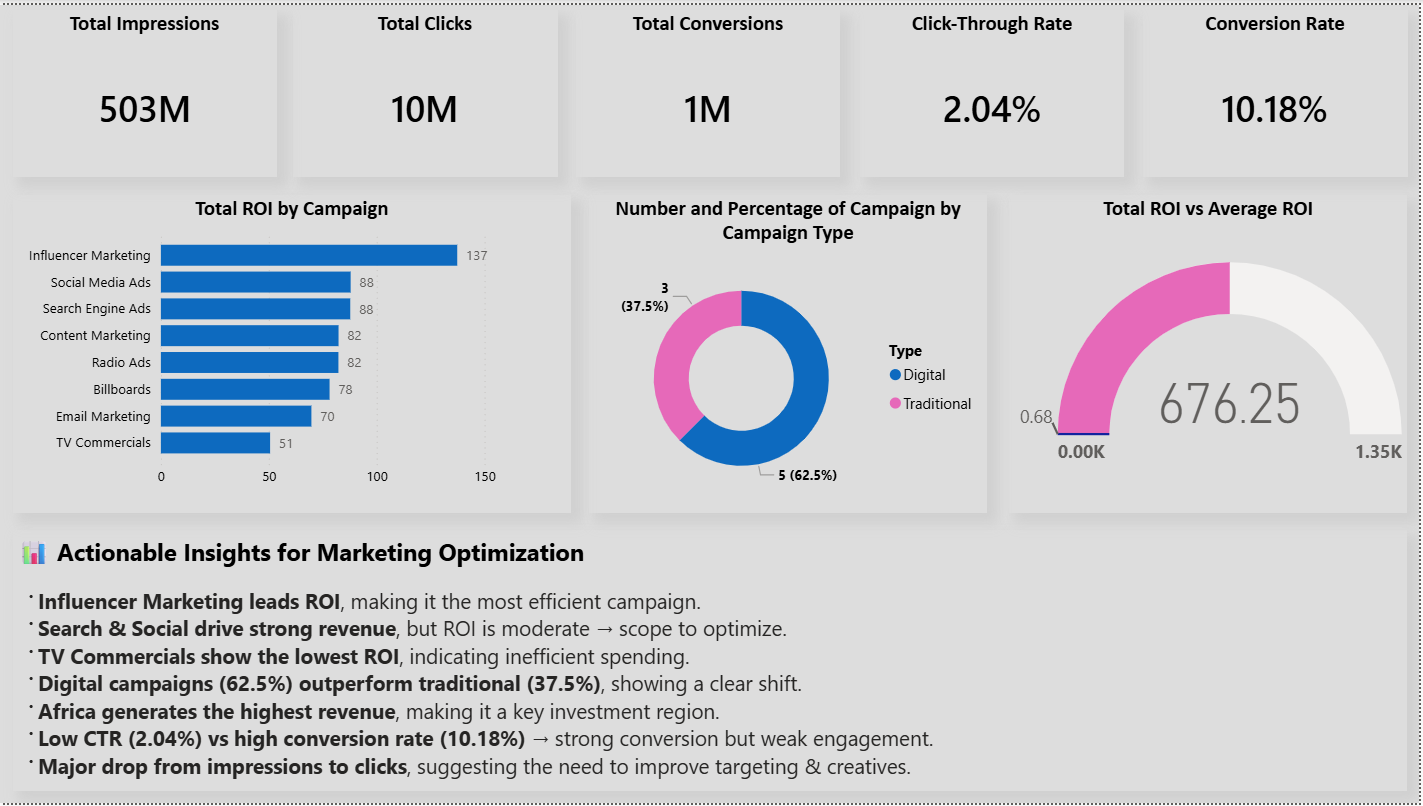

The dashboard page shown, as its layout file describes it:
{"tool":"powerbi","page":{"name":"Page 2","canvas":[1280,720],"ordinal":1},"visuals":[{"type":"clusteredBarChart","title":"Total ROI by Campaign","fields":{"Category":["marketing campaign details.CampaignName"],"Y":["Sum(marketing campaign performance.ROI)"]},"box":[11.2,171.7,503.8,286.1],"z":0},{"type":"donutChart","title":"Number and Percentage of Campaign by Campaign Type","fields":{"Y":["CountNonNull(marketing campaign details.CampaignName)"],"Category":["marketing campaign details.Type"]},"box":[531.2,171.7,359.5,286.1],"z":1000},{"type":"gauge","title":"Total ROI vs Average ROI","fields":{"Y":["marketing campaign performance.Total ROI"],"TargetValue":["Avg(marketing campaign performance.ROI)"]},"box":[909.3,171.7,359.5,286.1],"z":2000},{"type":"textbox","box":[11.2,473.9,1257.6,235.1],"z":5000},{"type":"cardVisual","title":"Total Impressions","fields":{"Data":["marketing campaign performance.Total impressions"]},"box":[11.2,5,238,150.5],"z":6000},{"type":"cardVisual","title":"Click-Through Rate","fields":{"Data":["marketing campaign performance.CTR"]},"box":[775,5,238,150.5],"z":7000},{"type":"cardVisual","title":"Total Clicks","fields":{"Data":["marketing campaign performance.total clicks"]},"box":[263.7,5,238.8,150.5],"z":8000},{"type":"cardVisual","title":"Total Conversions","fields":{"Data":["marketing campaign performance.total Conversions"]},"box":[520,5,237.6,150.5],"z":9000},{"type":"cardVisual","title":"Conversion Rate","fields":{"Data":["marketing campaign performance.Conversion Rate"]},"box":[1030,5,238.8,150.5],"z":10000}]}

Visuals, with their boxes in screenshot pixels (x1, y1, x2, y2), scaled from the page's 1280x720 canvas onto the 1423x806 screenshot:
"Total ROI by Campaign" clusteredBarChart: detection(12, 192, 573, 512)
"Number and Percentage of Campaign by Campaign Type" donutChart: detection(591, 192, 990, 512)
"Total ROI vs Average ROI" gauge: detection(1011, 192, 1411, 512)
textbox: detection(12, 531, 1411, 794)
"Total Impressions" cardVisual: detection(12, 6, 277, 174)
"Click-Through Rate" cardVisual: detection(862, 6, 1126, 174)
"Total Clicks" cardVisual: detection(293, 6, 559, 174)
"Total Conversions" cardVisual: detection(578, 6, 842, 174)
"Conversion Rate" cardVisual: detection(1145, 6, 1411, 174)
